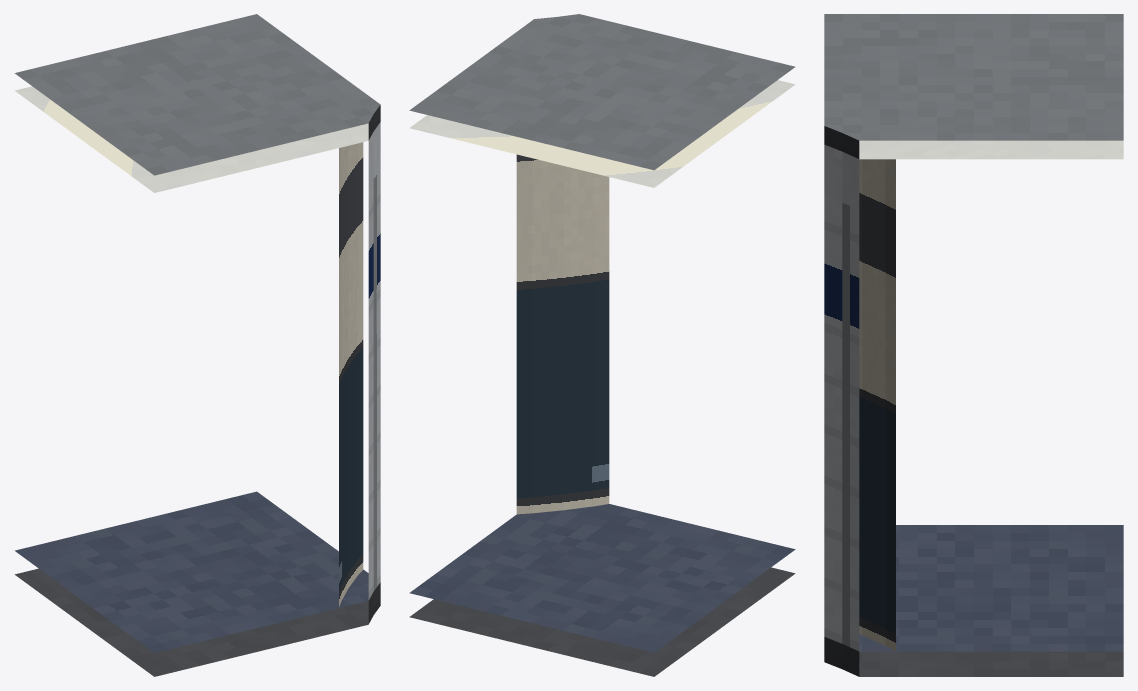
File: airport_jet_bridge_turn_c5.obj
3 renders of one model, left to right at view 1: azimuth 30°, elevation 25°; view 2: azimuth 150°, elevation 25°; view 3: azimuth 270°, elevation 25°, orthographic. The views are drawn at different scales.
Visible parts, largest first — view 1: airport_jet_bridge_turn_c5; view 2: airport_jet_bridge_turn_c5; view 3: airport_jet_bridge_turn_c5.
Part boxes in pixels (<box>): airport_jet_bridge_turn_c5: <box>14,14,380,676</box>; airport_jet_bridge_turn_c5: <box>409,14,795,676</box>; airport_jet_bridge_turn_c5: <box>824,14,1123,676</box>.
Bounding box in the file's own units: 1 × 1.98 × 1.
